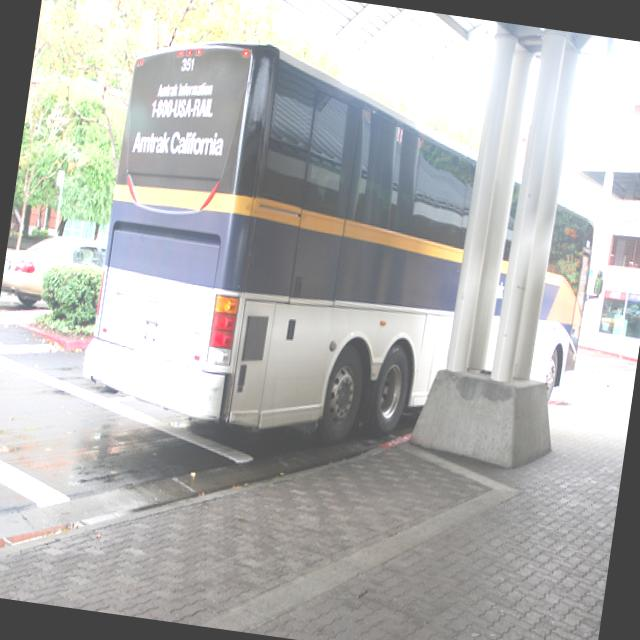Vehicle: (77, 22, 613, 478), (0, 228, 106, 315)
